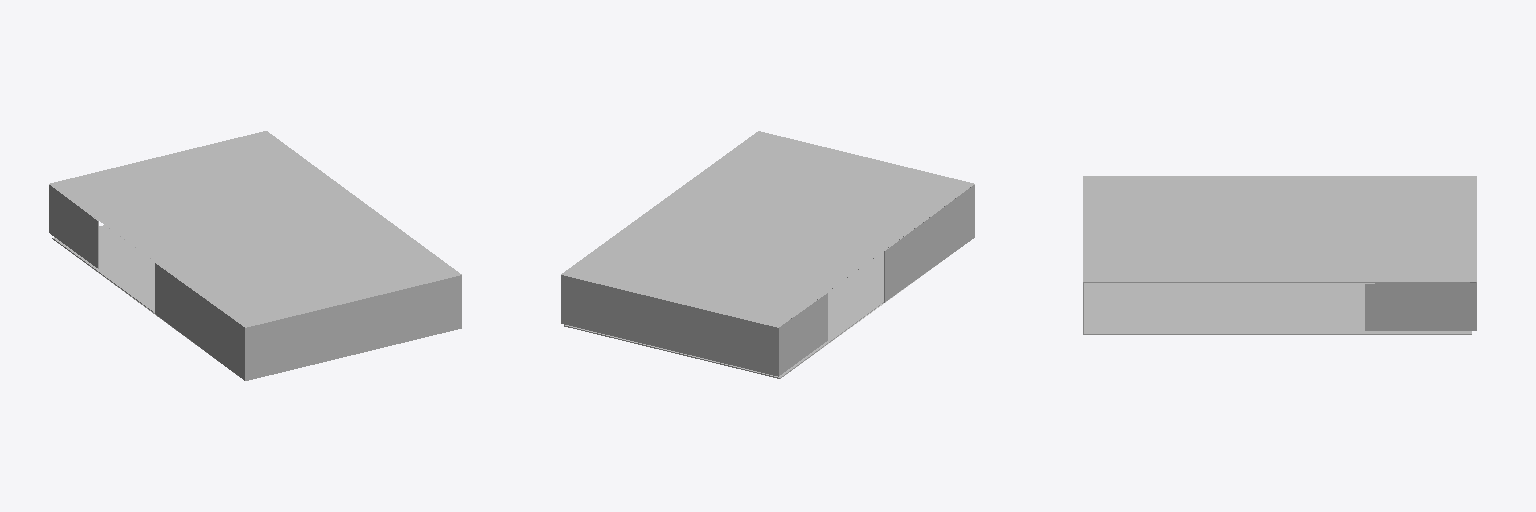
Rendered from lightbox.obj.
3 views of the same model, side by side, from view 1: azimuth 30°, elevation 25°; view 2: azimuth 150°, elevation 25°; view 3: azimuth 270°, elevation 25° (orthographic).
Parts seen in each view (by area): view 1: pPlane4; view 2: pPlane4; view 3: pPlane4.
Part boxes in pixels (bbox=[...]): pPlane4: bbox=[49, 131, 461, 380]; pPlane4: bbox=[561, 131, 974, 378]; pPlane4: bbox=[1083, 176, 1476, 334].
Bounding box in the file's own units: 204 × 47.74 × 319.